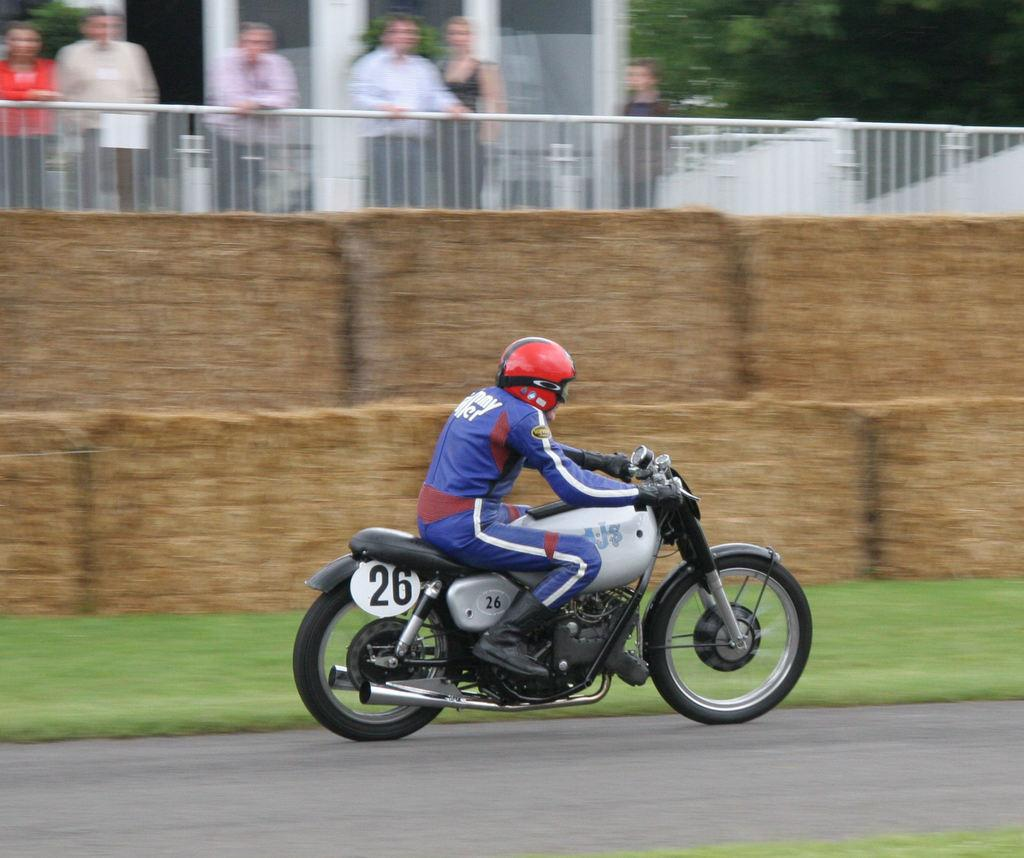helmet: (495, 337, 577, 420)
nohelmet: (78, 5, 125, 57), (4, 21, 43, 64), (241, 21, 276, 68), (382, 13, 419, 56), (623, 58, 659, 96), (444, 17, 472, 58)
